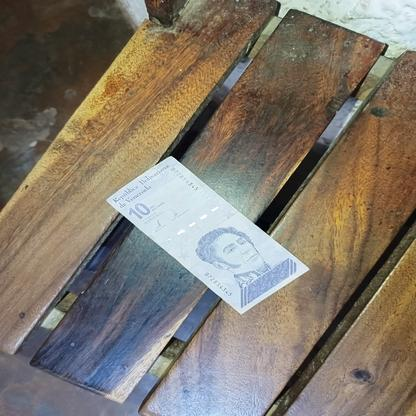ten-front-vef: (104, 156, 310, 317)
